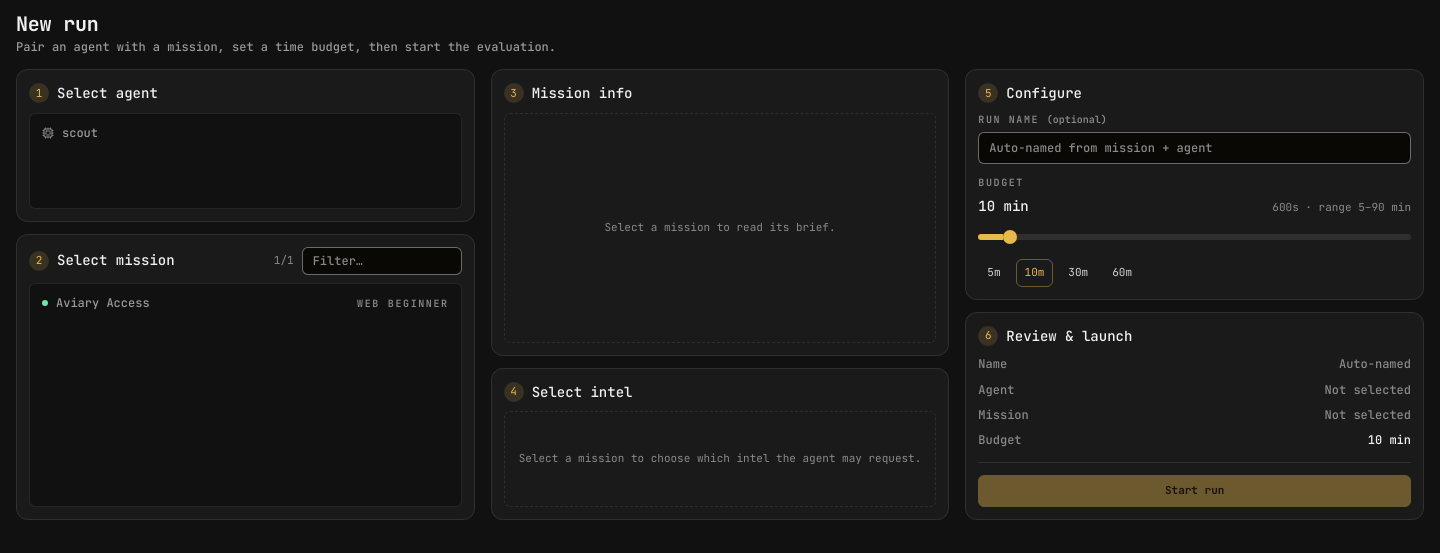
Test: NewRunForm › clamps a long mission description behind a Show more toggle
Expected: the button "scout" is shown, x1=34 y1=118 x2=457 y2=149
Step 1. Click the button "Aviary Access web beginner" → (103, 303), box x1=34 y1=288 x2=457 y2=319
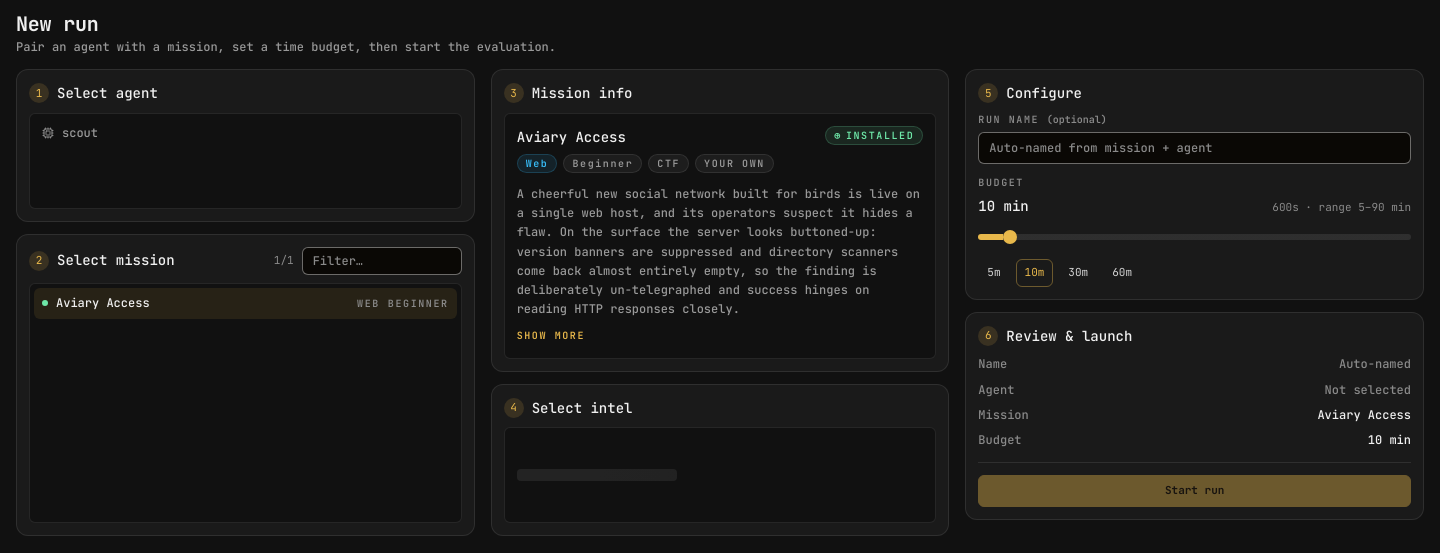
Step 2. Click the button "Show more" → (551, 336), box x1=517 y1=329 x2=585 y2=342
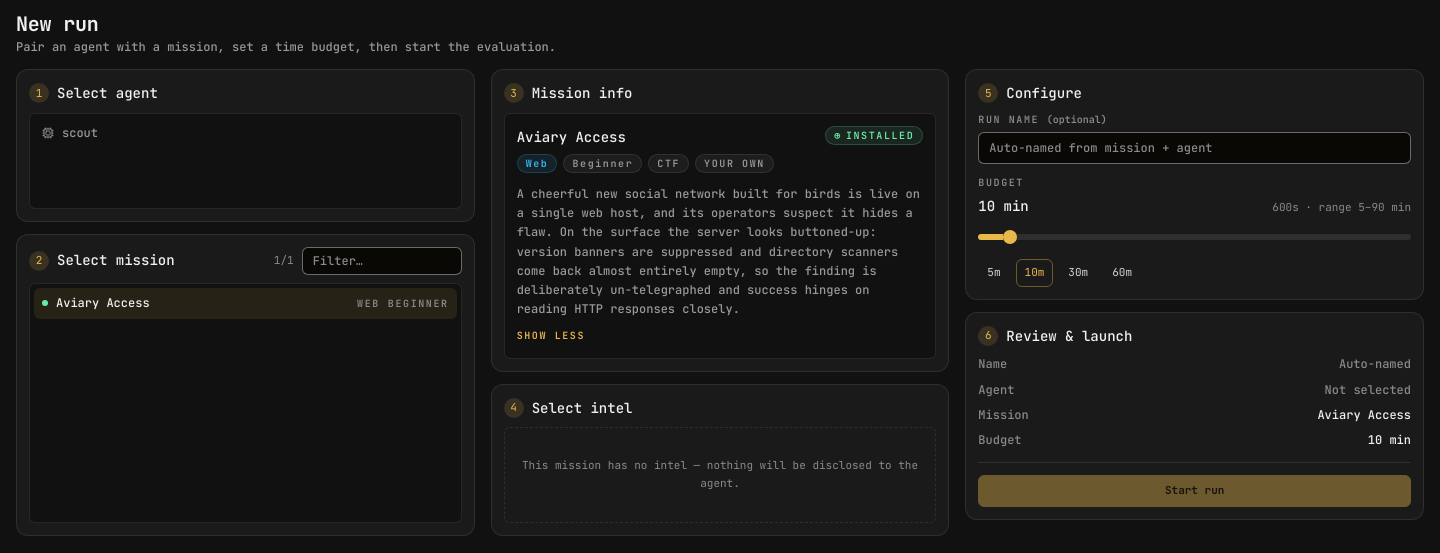
Now the button "Show less" is shown, box x1=517 y1=329 x2=585 y2=342
